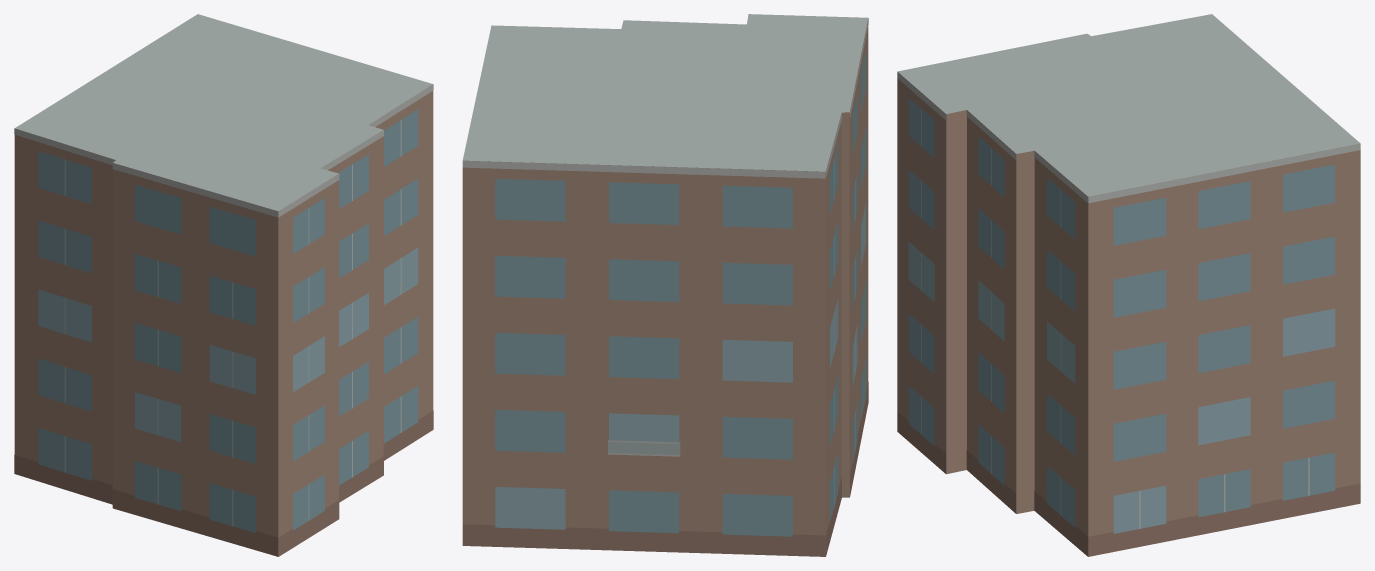
The model's file is survey-upis-32959973.glb.
The picture shows the model from 3 angles, left to right: view 1: azimuth 30°, elevation 25°; view 2: azimuth 150°, elevation 25°; view 3: azimuth 270°, elevation 25°; orthographic projection. The views are drawn at different scales.
Visible parts, largest first — view 1: survey-upis-32959973.tmp; view 2: survey-upis-32959973.tmp; view 3: survey-upis-32959973.tmp.
Boxes of the visible parts, bbox=[...] form: survey-upis-32959973.tmp: bbox=[14, 14, 433, 556]; survey-upis-32959973.tmp: bbox=[462, 14, 868, 556]; survey-upis-32959973.tmp: bbox=[897, 14, 1360, 556].
Size of the model in its own units: 14.6 by 13.4 by 15.64.
